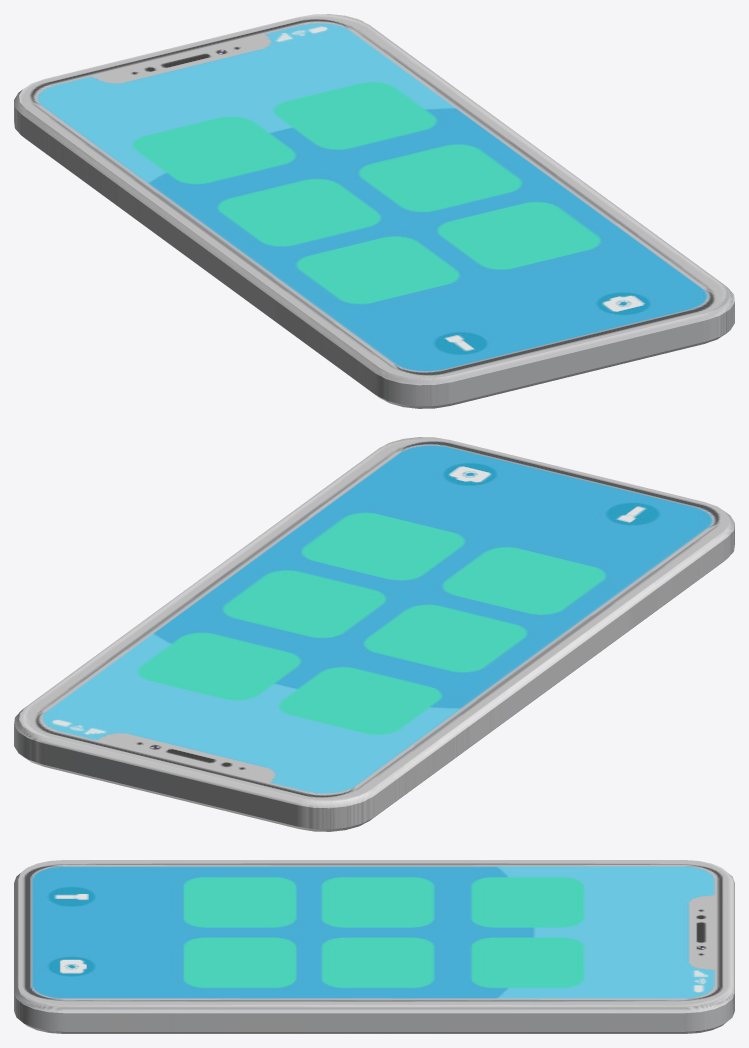
The model's file is mobile.fbx.
3 renders of one model, top to bottom at view 1: azimuth 30°, elevation 25°; view 2: azimuth 150°, elevation 25°; view 3: azimuth 270°, elevation 25°, orthographic. The views are drawn at different scales.
Parts seen in each view (by area): view 1: pCube1; view 2: pCube1; view 3: pCube1.
Part boxes in pixels (x1,y1,x2,y2): pCube1: (14, 14, 734, 408); pCube1: (14, 437, 734, 831); pCube1: (14, 860, 734, 1033).
Bounding box in the file's own units: 1.92 × 0.158 × 3.87.
1 material, 1 textured.
